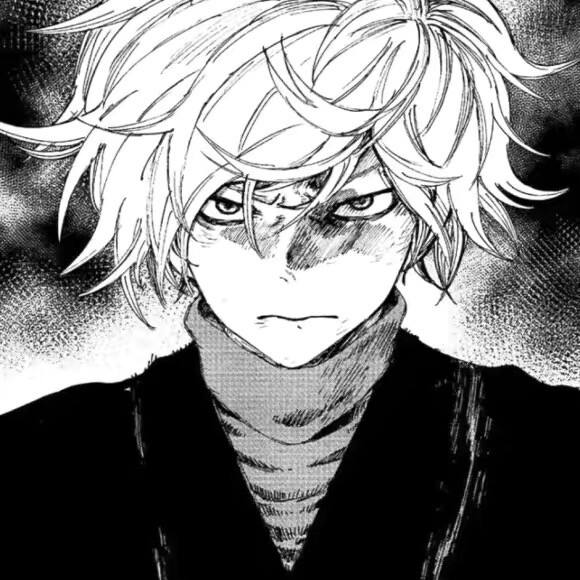person: (42, 9, 534, 503)
